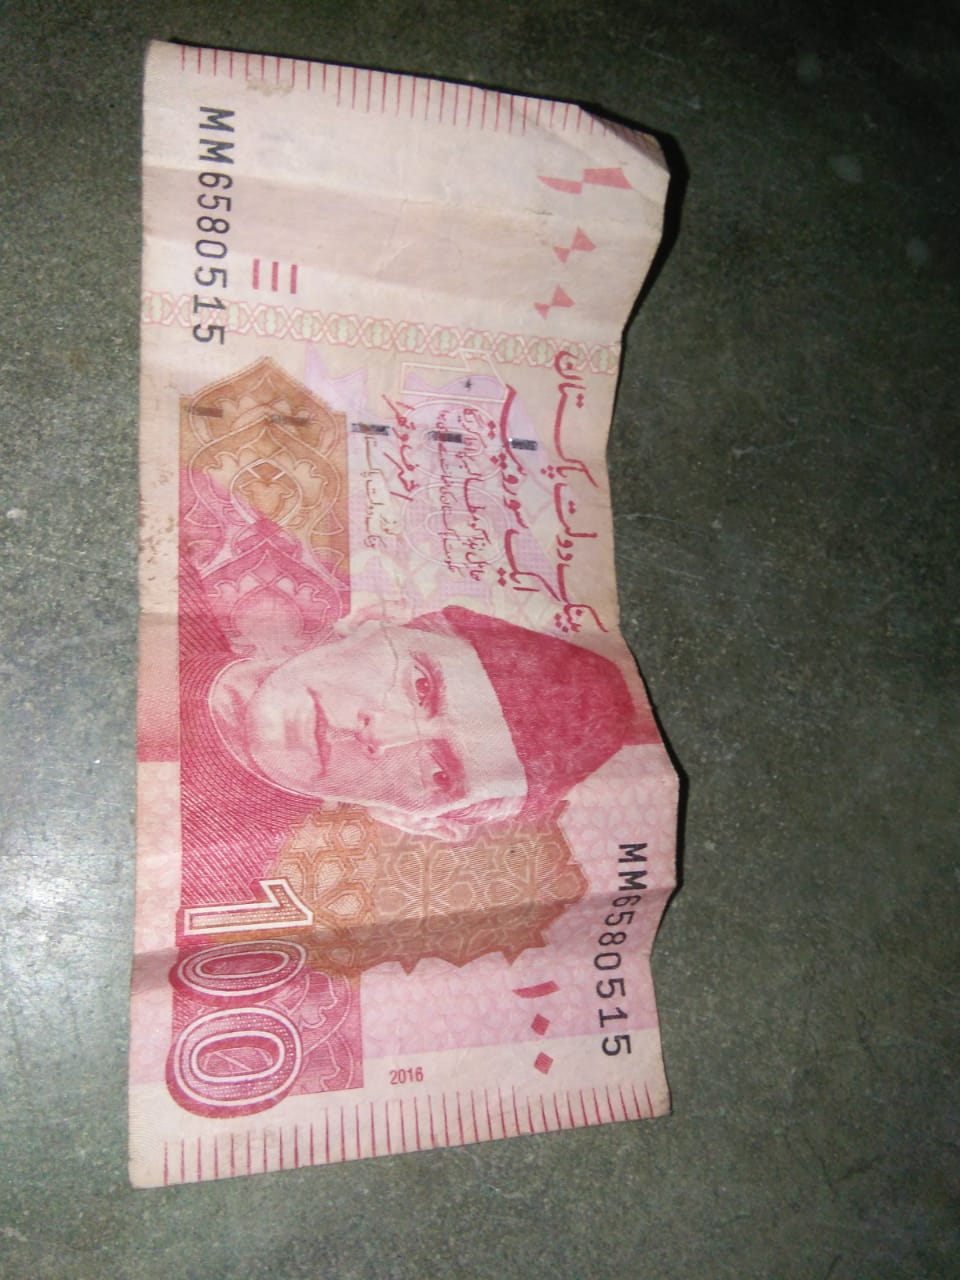100 rupee: (93, 27, 722, 1245)
